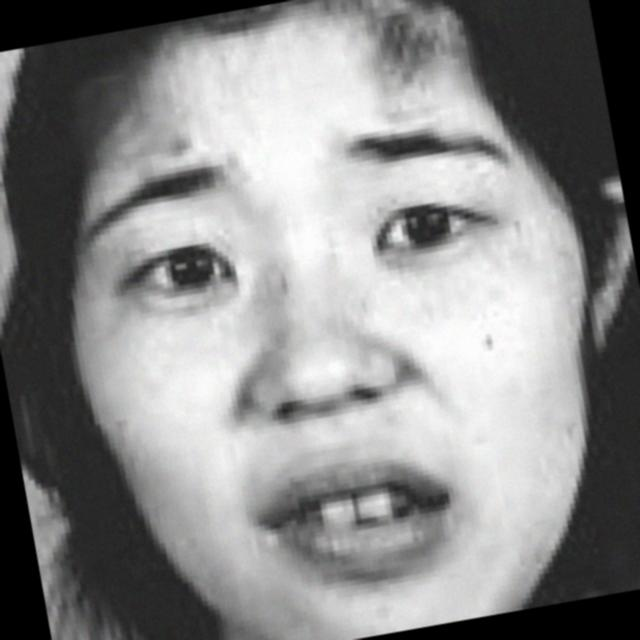fear: (28, 26, 601, 640)
